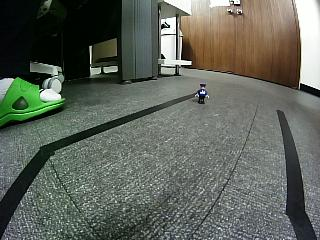person: (195, 83, 210, 104)
